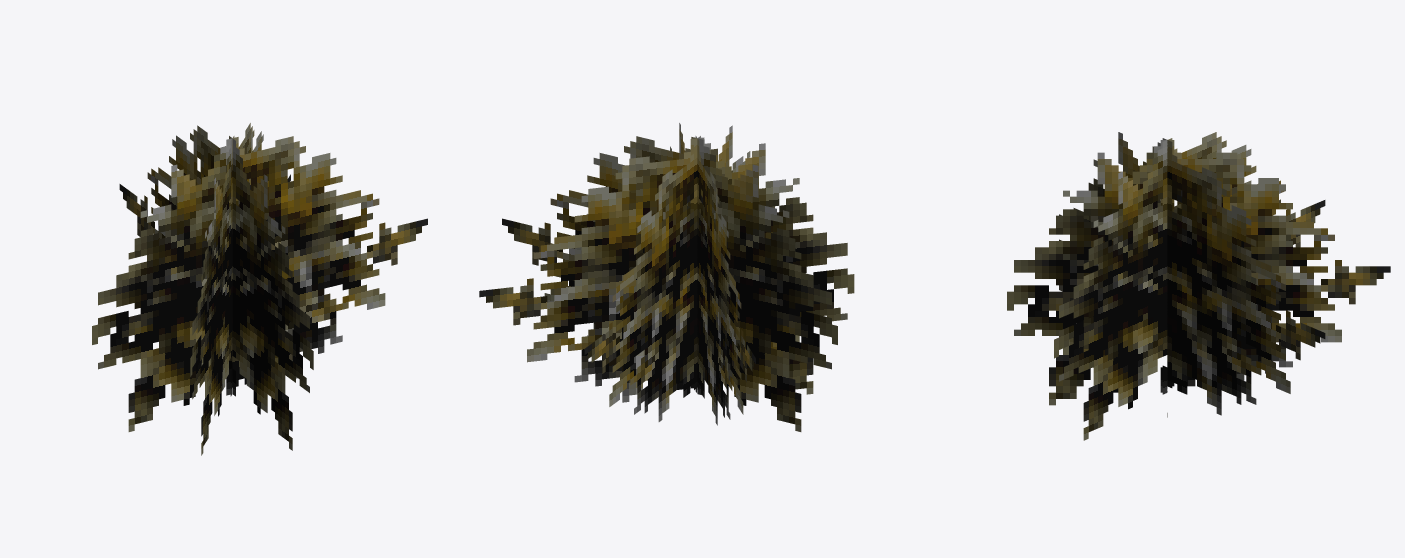
Rendered from Dead_Bush.fbx.
The picture shows the model from 3 angles, left to right: view 1: azimuth 30°, elevation 25°; view 2: azimuth 150°, elevation 25°; view 3: azimuth 270°, elevation 25°; orthographic projection.
Parts seen in each view (by area): view 1: Dead_Bush; view 2: Dead_Bush; view 3: Dead_Bush.
Part boxes in pixels (x1,y1,x2,y2): Dead_Bush: (92,123,427,455); Dead_Bush: (479,123,854,431); Dead_Bush: (1007,132,1390,440).
Size of the model in its own units: 119 by 100 by 119.
1 material, 1 textured.
